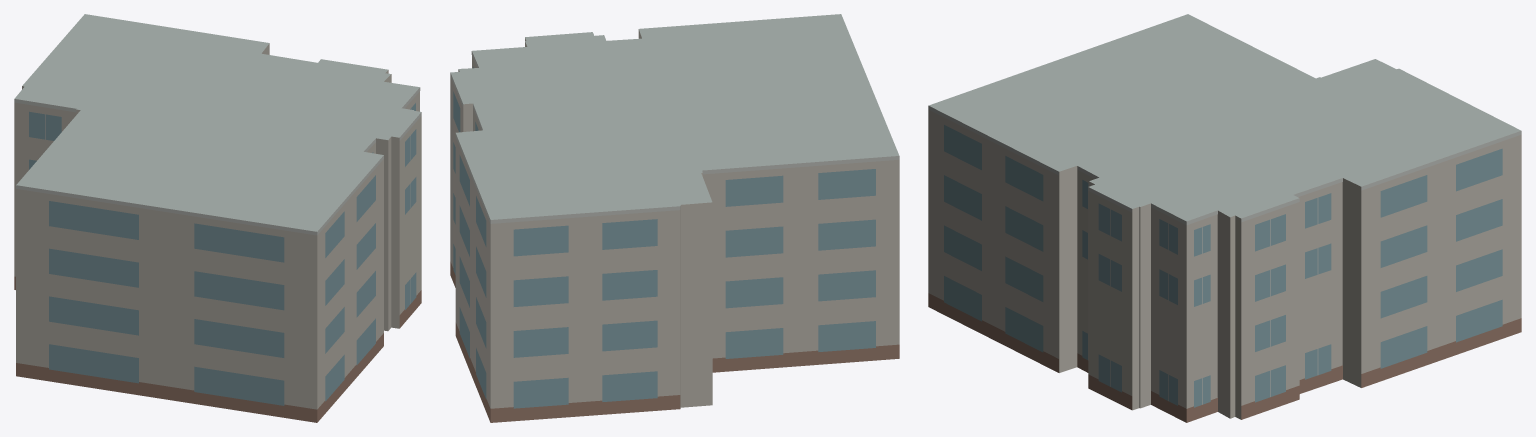
File: survey-upis-32910191.glb
3 views of the same model, side by side, from view 1: azimuth 30°, elevation 25°; view 2: azimuth 150°, elevation 25°; view 3: azimuth 270°, elevation 25° (orthographic). The views are drawn at different scales.
Visible parts, largest first — view 1: survey-upis-32910191.tmp; view 2: survey-upis-32910191.tmp; view 3: survey-upis-32910191.tmp.
Boxes of the visible parts, x1,y1,x2,y2 form: survey-upis-32910191.tmp: [14, 14, 421, 422]; survey-upis-32910191.tmp: [450, 14, 899, 422]; survey-upis-32910191.tmp: [928, 14, 1521, 422].
Bounding box in the file's own units: 28.07 × 12.7 × 33.9.
